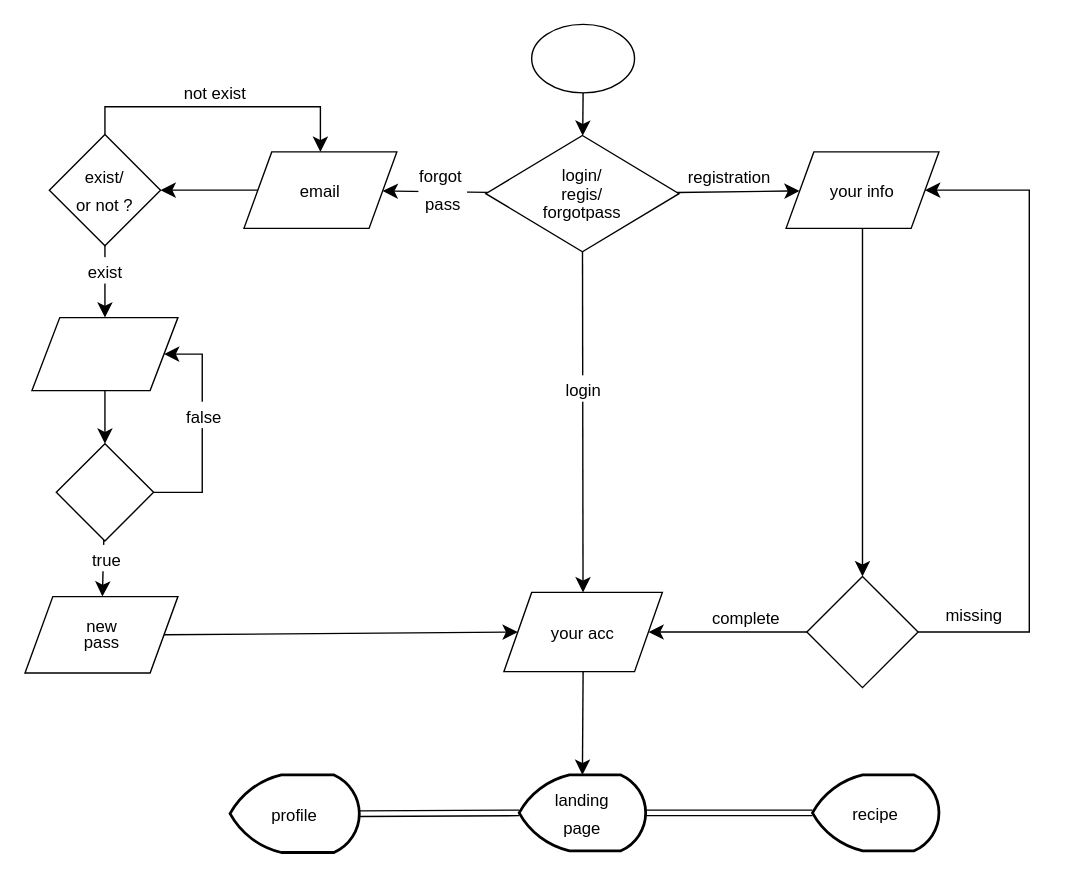
This 1068x878 diagram has some shape labels left out. The shapes that lost their labels are listed below. From the top down, each one's centre as x and y in pixels, then its label:
At (x=582, y=58): "start".
At (x=104, y=353): "code reset".
At (x=104, y=491): "is it true ?".
At (x=862, y=631): "validate the info".
